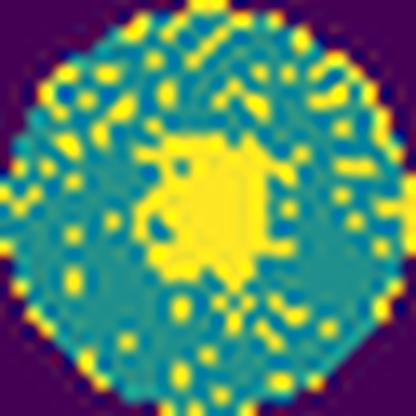Center: (130, 131, 298, 294)
